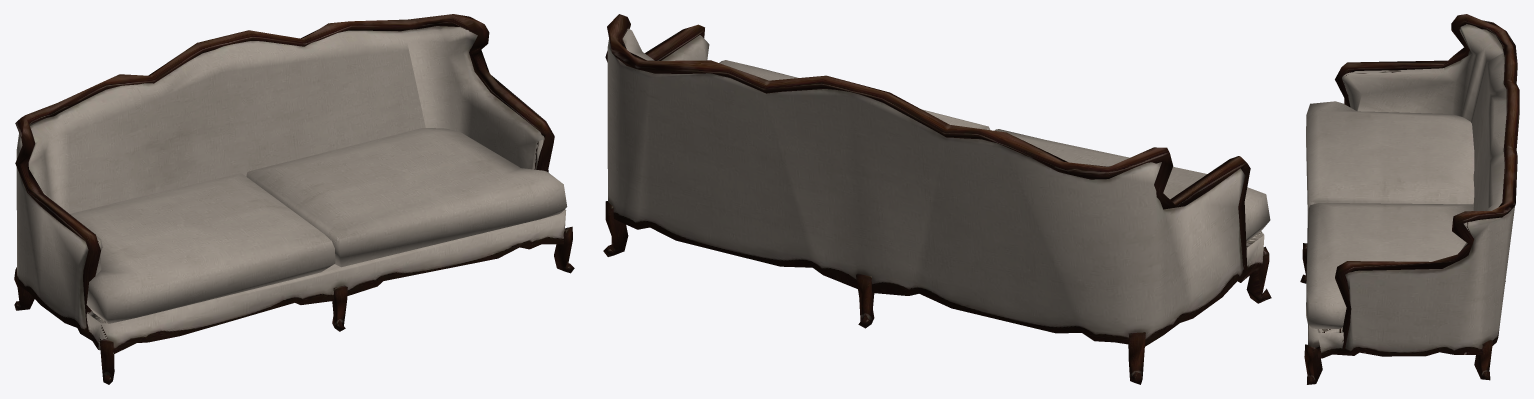
The model's file is Sofa_01_lod2.glb.
The picture shows the model from 3 angles, left to right: view 1: azimuth 30°, elevation 25°; view 2: azimuth 150°, elevation 25°; view 3: azimuth 270°, elevation 25°; orthographic projection. The views are drawn at different scales.
Parts seen in each view (by area): view 1: Sofa_01; view 2: Sofa_01; view 3: Sofa_01.
Boxes of the visible parts, x1,y1,x2,y2 form: Sofa_01: (14, 14, 574, 384); Sofa_01: (603, 14, 1271, 384); Sofa_01: (1300, 14, 1519, 384).
Size of the model in its own units: 2 by 0.8407 by 0.8984.
Materials: 1 (1 with a texture image).
